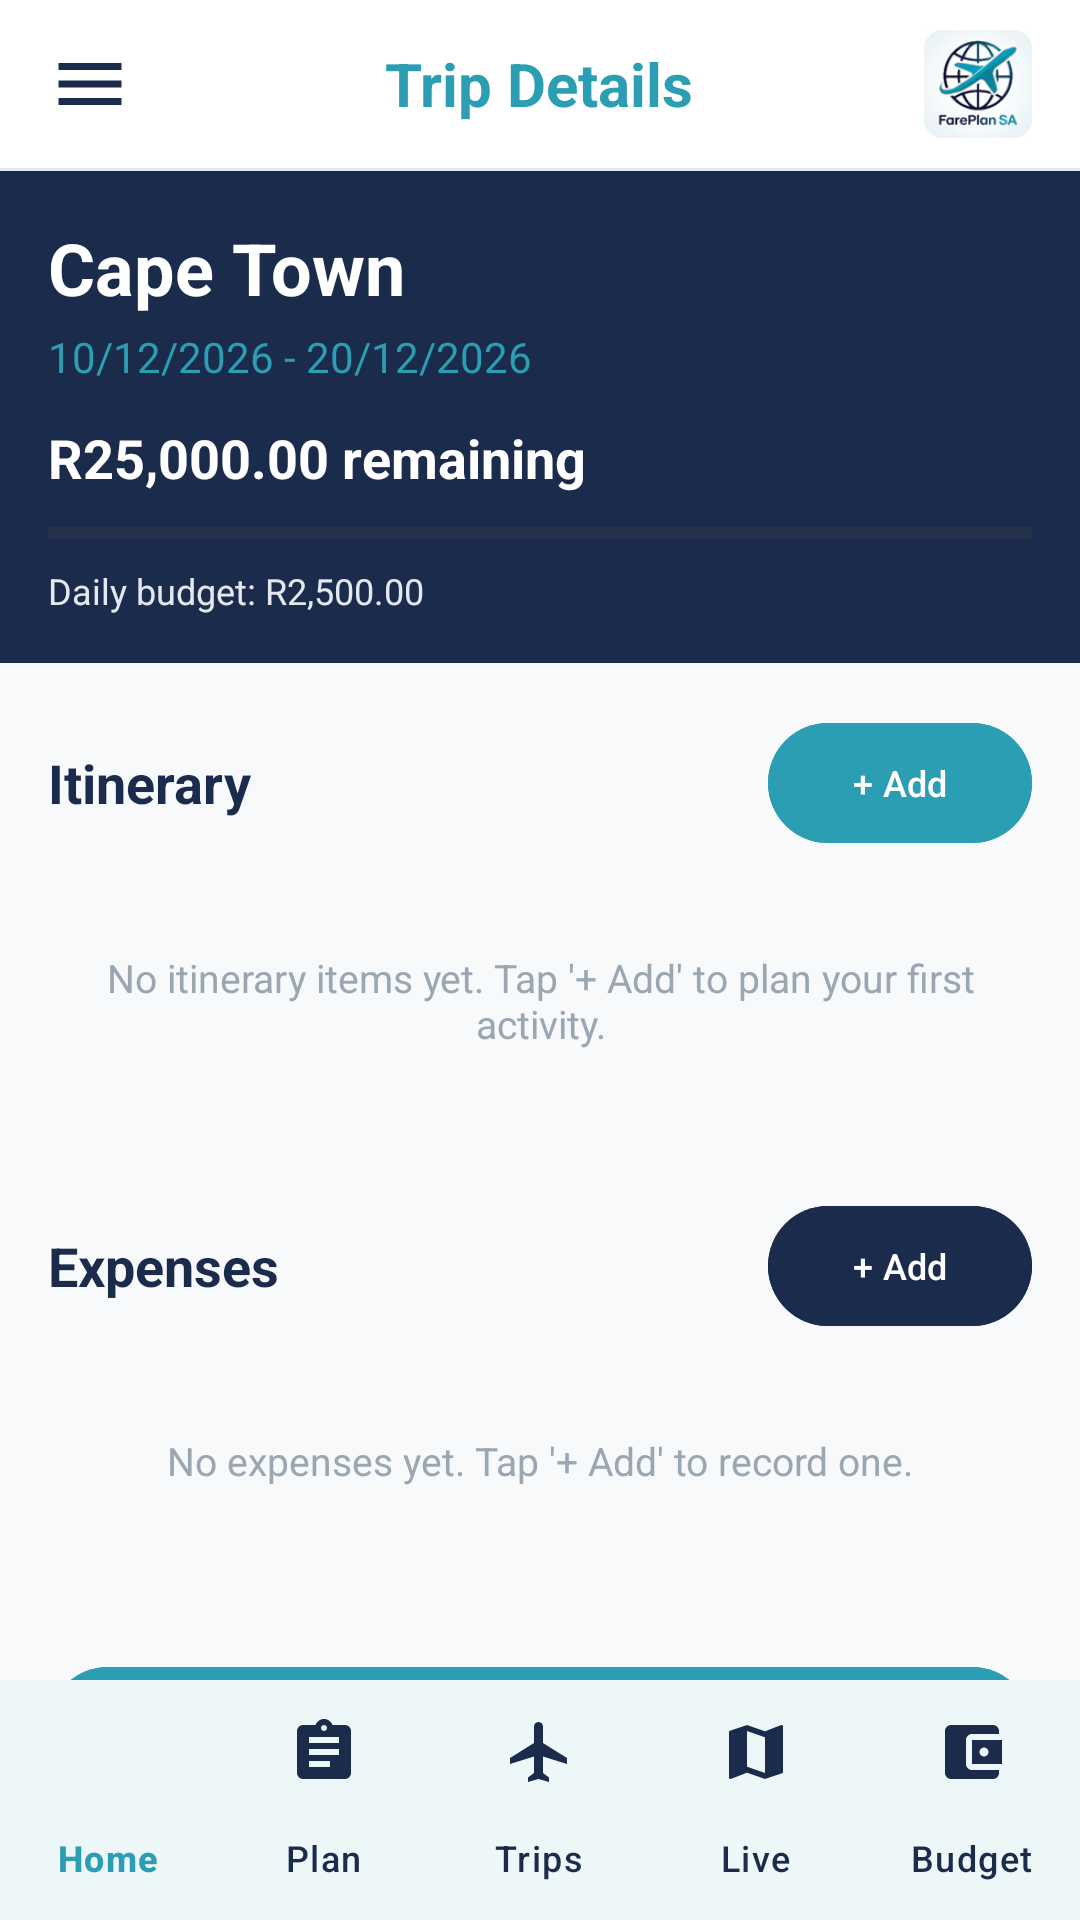

Screen size 1080 × 1920. Icon name, then its box in pixels as [x1,y1,x2,y2]:
Menu: [58,63,122,105]
